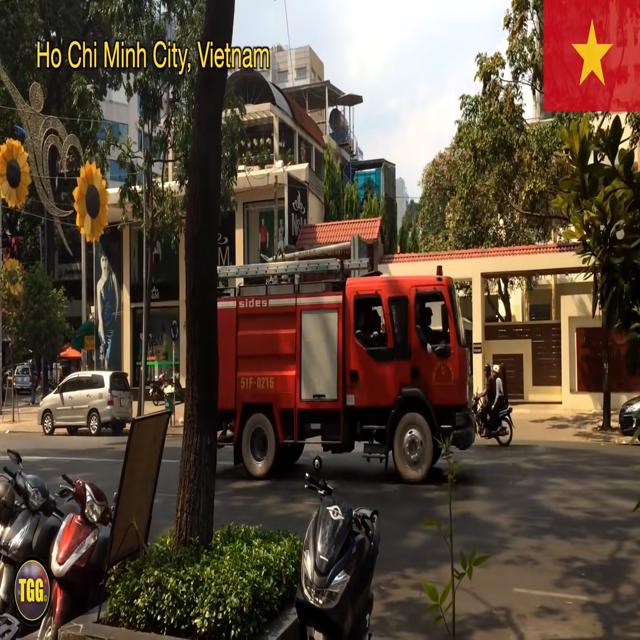emergency-vehicles: (182, 218, 488, 498)
